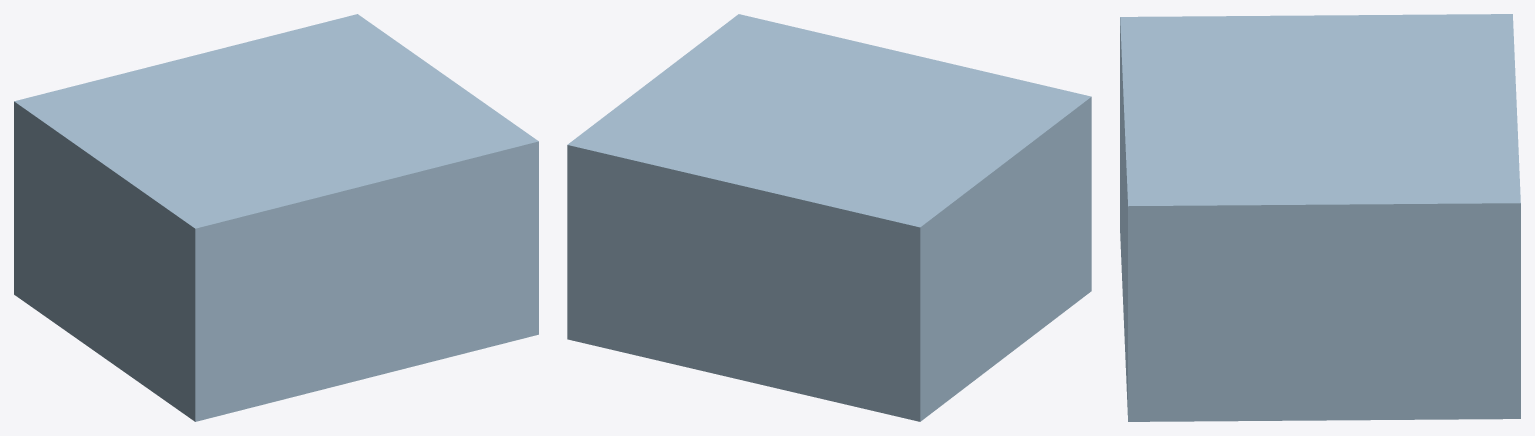
Rendered from osm_way_224996787.glb.
3 views of the same model, side by side, from view 1: azimuth 30°, elevation 25°; view 2: azimuth 150°, elevation 25°; view 3: azimuth 270°, elevation 25° (orthographic). The views are drawn at different scales.
Parts seen in each view (by area): view 1: osm_way_224996787; view 2: osm_way_224996787; view 3: osm_way_224996787.
Boxes of the visible parts, left/top/right/bottom form: osm_way_224996787: left=14, top=14, right=538, bottom=421; osm_way_224996787: left=567, top=14, right=1091, bottom=421; osm_way_224996787: left=1120, top=14, right=1520, bottom=421.
Size of the model in its own units: 7.64 by 4 by 6.73.
